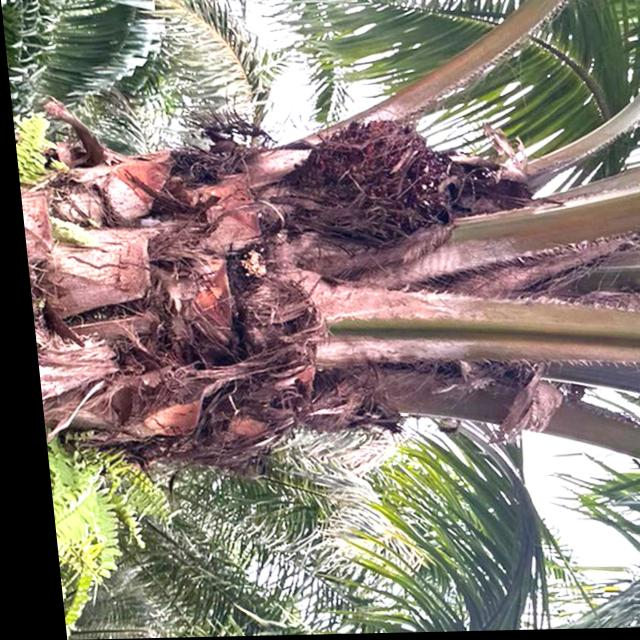ripe: (290, 118, 464, 259)
